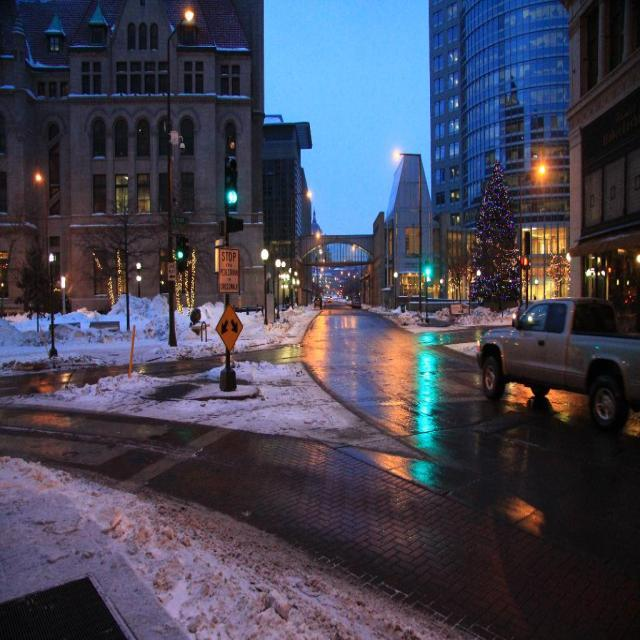traffic light: (225, 158, 239, 211)
